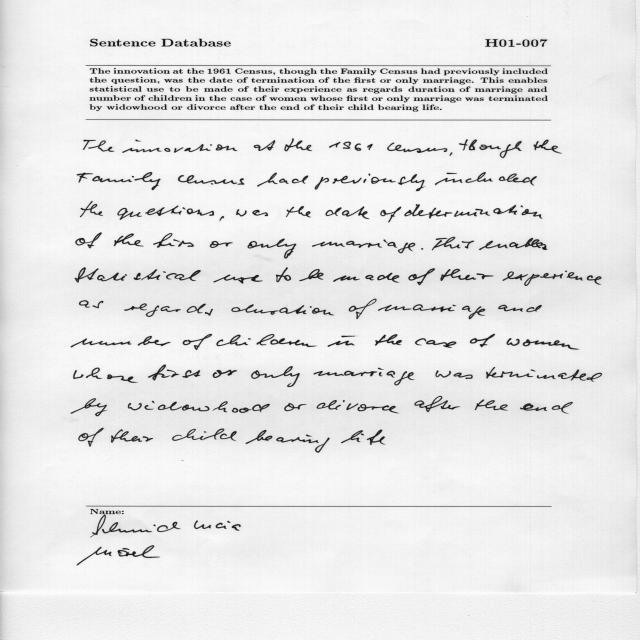word: (405, 204, 543, 219), (246, 430, 330, 453), (75, 268, 201, 283), (315, 174, 425, 191), (486, 367, 602, 382), (314, 368, 415, 385), (128, 401, 270, 413), (123, 139, 238, 153), (378, 305, 485, 320), (77, 172, 161, 190), (503, 271, 602, 286), (435, 172, 537, 186), (117, 206, 214, 220), (312, 240, 415, 253), (216, 334, 317, 347), (124, 303, 213, 317), (459, 140, 522, 159), (232, 305, 335, 316), (71, 336, 170, 347), (317, 400, 399, 413), (251, 366, 300, 387), (74, 367, 138, 383), (248, 239, 297, 259), (507, 338, 579, 350), (172, 428, 237, 441), (479, 238, 547, 250), (148, 365, 201, 380), (414, 396, 460, 412), (257, 173, 308, 187), (178, 175, 244, 185), (333, 273, 399, 283), (440, 269, 494, 281), (71, 399, 107, 417), (520, 402, 573, 414), (153, 233, 194, 248), (387, 143, 447, 153), (111, 429, 153, 443), (326, 207, 370, 220), (349, 299, 377, 319), (432, 237, 474, 250), (79, 428, 104, 447), (183, 334, 212, 350), (408, 269, 435, 286), (213, 275, 263, 284), (76, 233, 102, 249), (415, 338, 456, 348), (533, 140, 562, 154), (329, 142, 373, 151), (114, 234, 144, 247), (84, 140, 115, 152), (80, 201, 103, 217), (475, 400, 508, 411), (284, 139, 312, 151), (380, 207, 401, 223), (436, 370, 473, 379), (470, 334, 495, 347), (375, 334, 402, 346), (328, 336, 357, 347), (498, 305, 542, 312), (299, 269, 324, 281), (341, 430, 364, 443), (286, 206, 311, 217), (367, 430, 385, 445), (254, 140, 275, 151), (276, 268, 291, 283), (236, 210, 268, 217), (79, 301, 104, 309), (213, 370, 237, 378), (285, 403, 307, 411), (210, 241, 233, 248), (220, 216, 224, 221), (450, 152, 453, 156), (421, 248, 423, 250)
